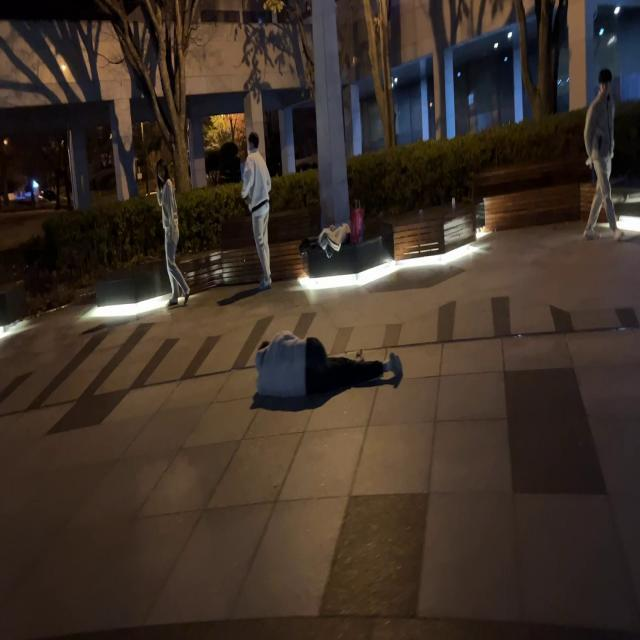Fall: (257, 332, 403, 398)
Stand: (585, 68, 625, 240), (156, 160, 190, 306), (241, 132, 272, 288)
